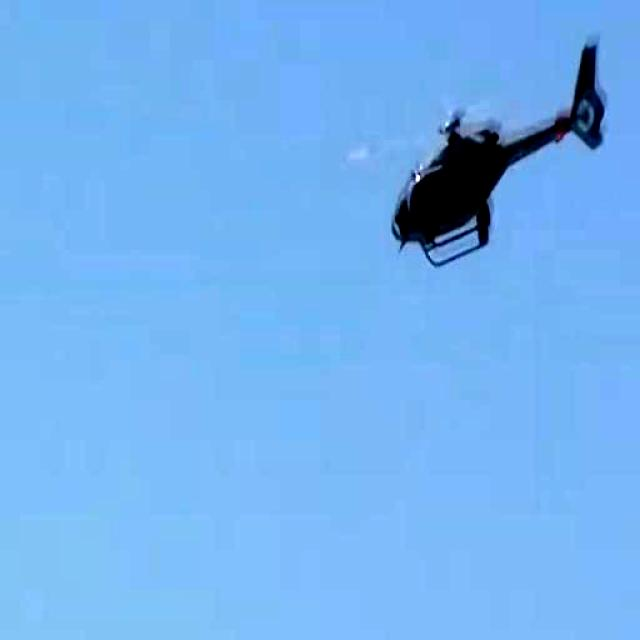drone: (371, 0, 615, 291)
